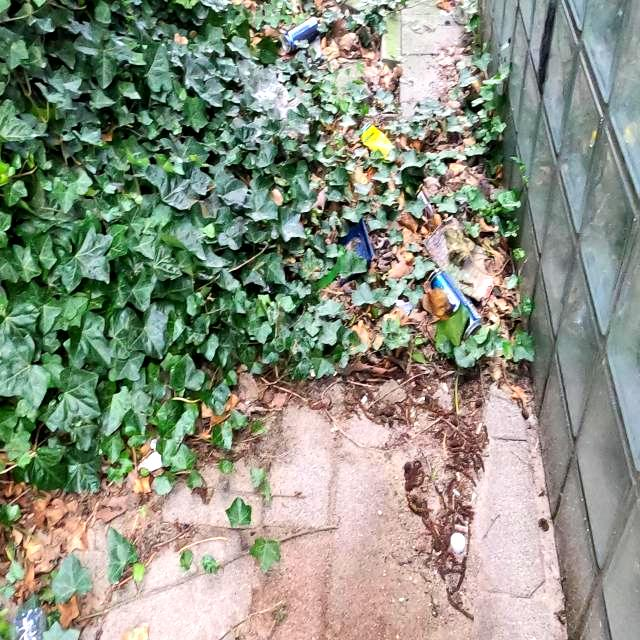Metal: (426, 266, 484, 344), (358, 120, 398, 163), (280, 15, 320, 55)
